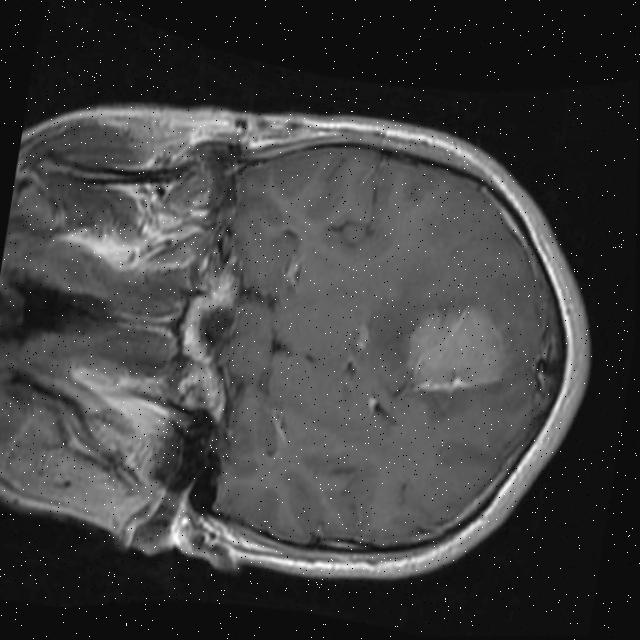Meningioma: (396, 296, 516, 405)
